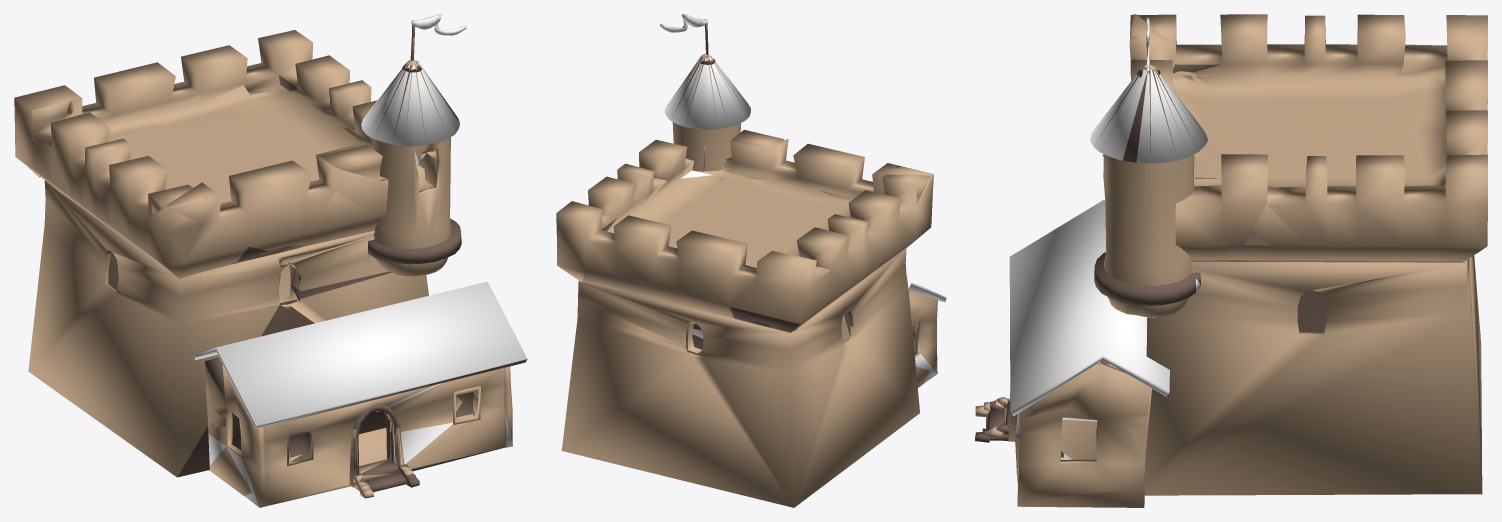
File: castle.3.glb
3 renders of one model, left to right at view 1: azimuth 30°, elevation 25°; view 2: azimuth 150°, elevation 25°; view 3: azimuth 270°, elevation 25°, orthographic. The views are drawn at different scales.
Visible parts, largest first — view 1: castle; view 2: castle; view 3: castle.
Boxes of the visible parts, <box> form: castle: <box>14,14,527,507</box>; castle: <box>556,14,946,507</box>; castle: <box>975,14,1487,507</box>.
Size of the model in its own units: 2.37 by 2.9 by 2.9.
